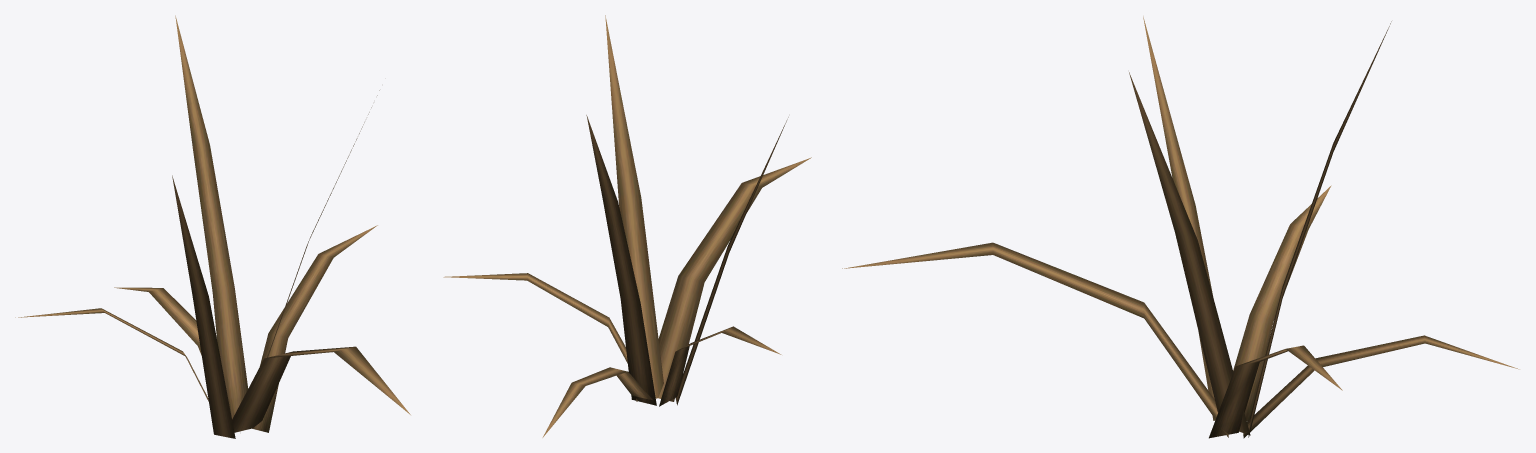
The model's file is INST_OH_NGRASS_TUFT_01.fbx.
The picture shows the model from 3 angles, left to right: view 1: azimuth 30°, elevation 25°; view 2: azimuth 150°, elevation 25°; view 3: azimuth 270°, elevation 25°; orthographic projection. The views are drawn at different scales.
Visible parts, largest first — view 1: INST_OH_NGRASS_TUFT_01; view 2: INST_OH_NGRASS_TUFT_01; view 3: INST_OH_NGRASS_TUFT_01.
Part boxes in pixels (x1,y1,x2,y2): INST_OH_NGRASS_TUFT_01: (15,15,410,438); INST_OH_NGRASS_TUFT_01: (443,15,811,437); INST_OH_NGRASS_TUFT_01: (842,16,1519,438).
Size of the model in its own units: 2105 by 1982 by 2943.
1 material, 1 textured.
